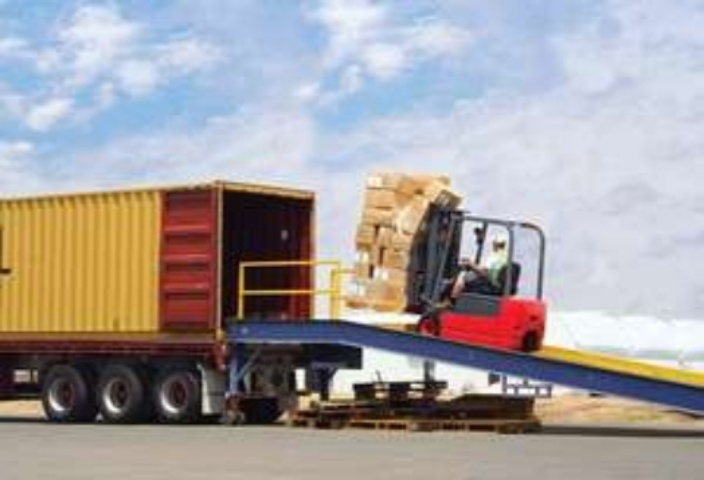industrial: (363, 161, 559, 351)
truck: (1, 174, 328, 432)
